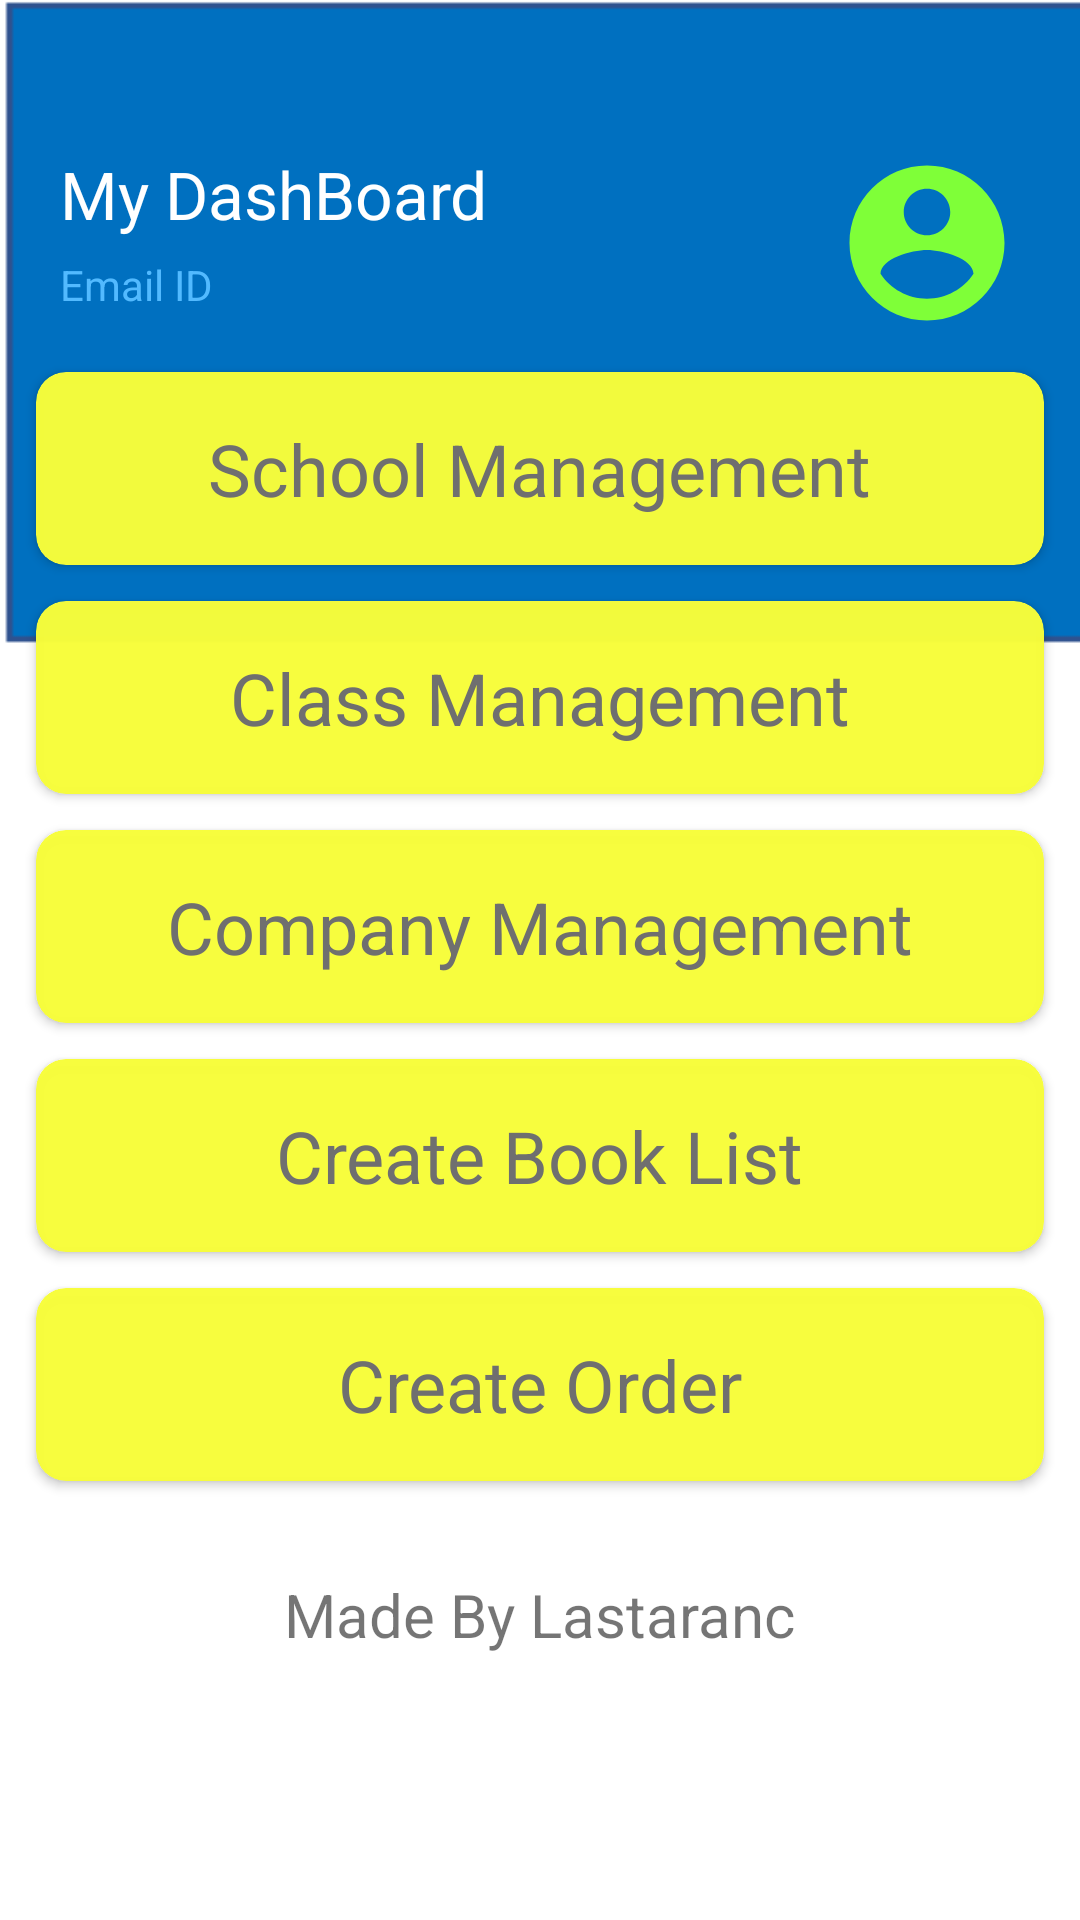

Where to tap for icons on this 1080 x 1920 app screen, as point (x, y):
account: point (927, 243)
